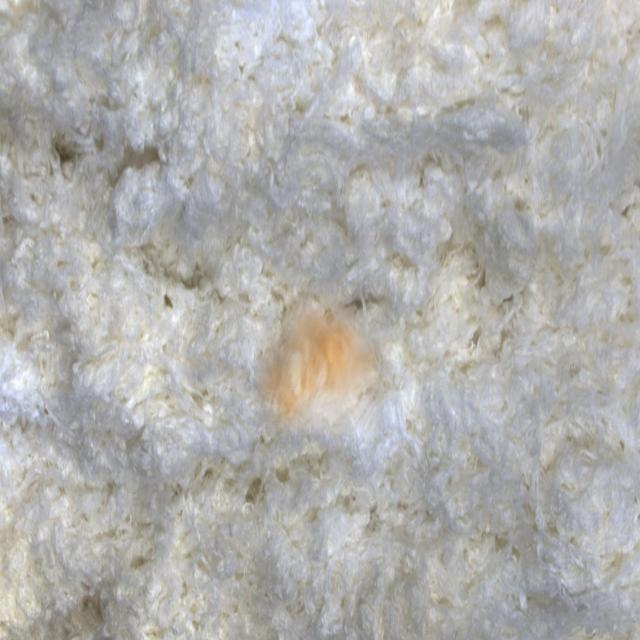dust: (254, 280, 393, 435)
